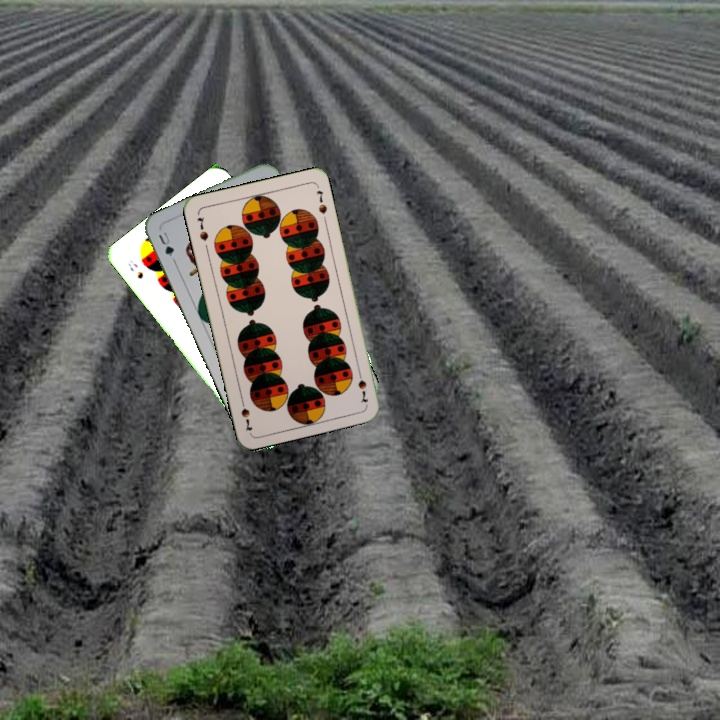GU: (154, 228, 178, 265)
S7: (354, 366, 371, 405), (193, 213, 211, 244)
S8: (124, 256, 146, 281)
